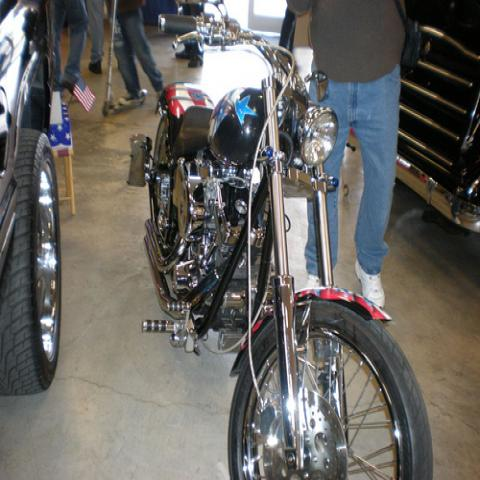motorcycle: (128, 5, 434, 476)
truck: (0, 0, 67, 400), (397, 0, 479, 288)
